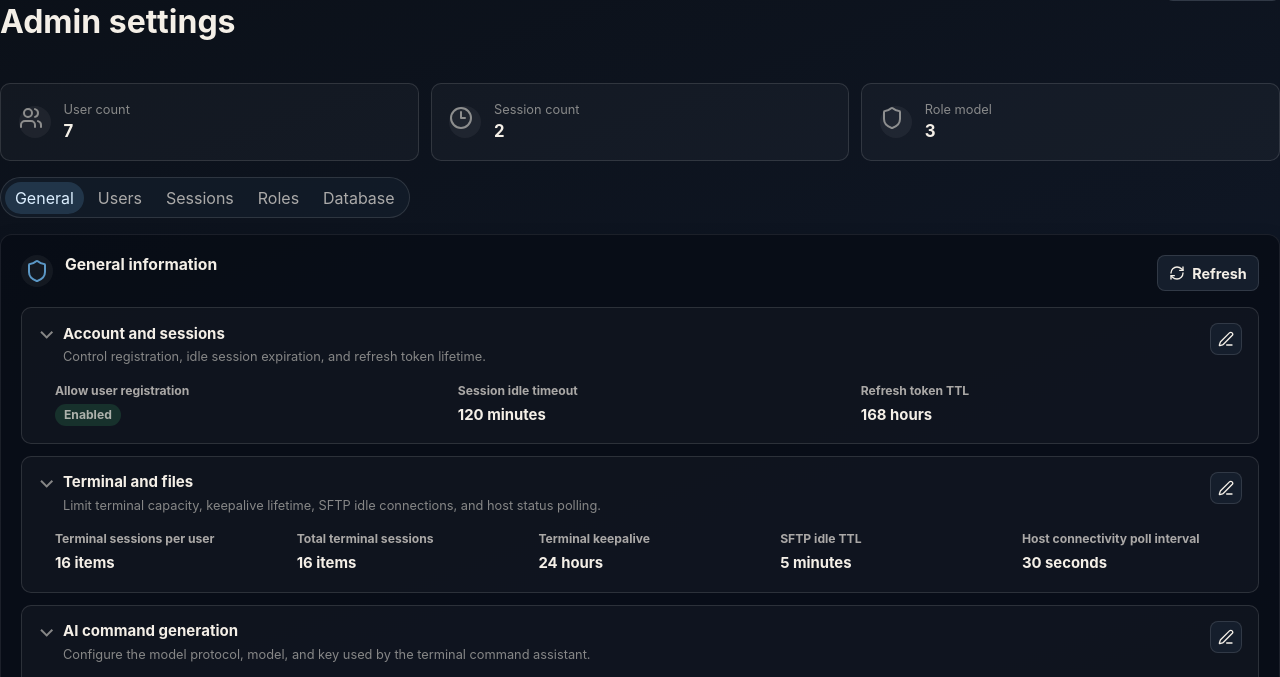
Test: AdminPage › cancels a general settings card draft without changing the summary
The width and height of the screenshot is (1280, 677).
Expected: the text "Terminal and files" is shown, x1=36 y1=470 x2=1244 y2=516
Click the button named "Edit Terminal and files": click(1226, 488) x1=1210 y1=472 x2=1242 y2=504
(page scrolled)
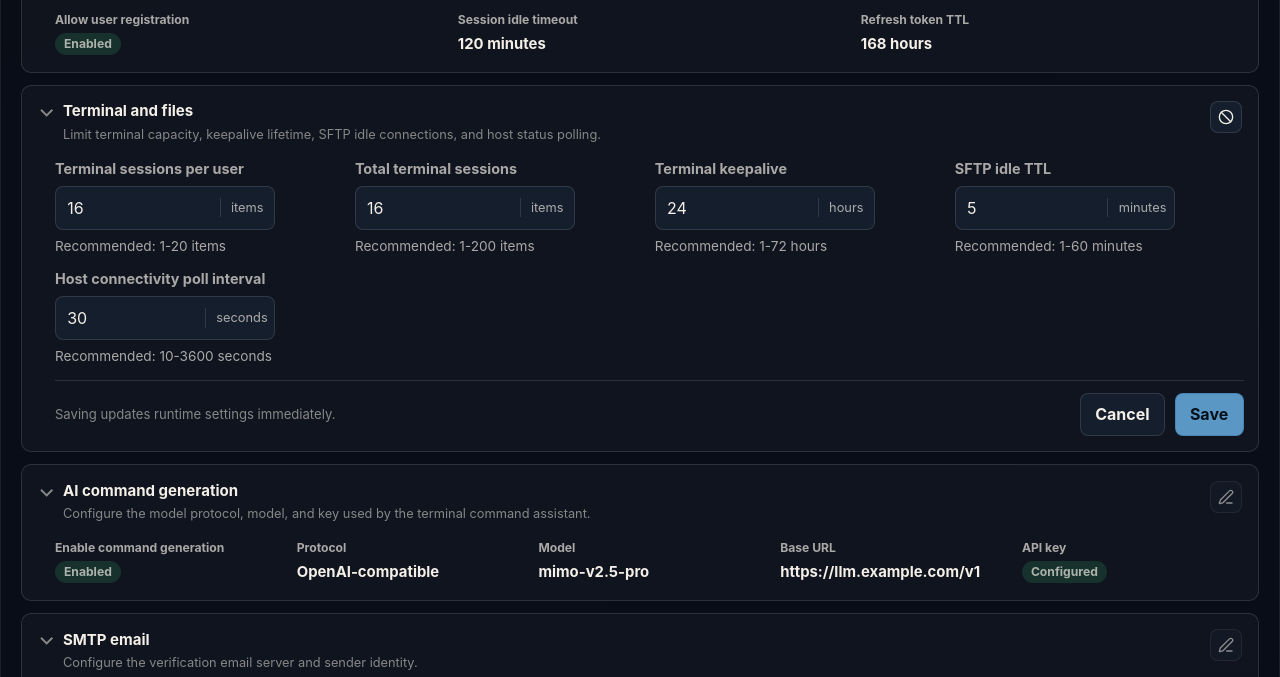
Expected: the text "Terminal and files" is shown, x1=36 y1=100 x2=1244 y2=145
Replace the text in the number field labelled "Host connectivity poll interval" with "45": (130, 318) x1=56 y1=297 x2=205 y2=339
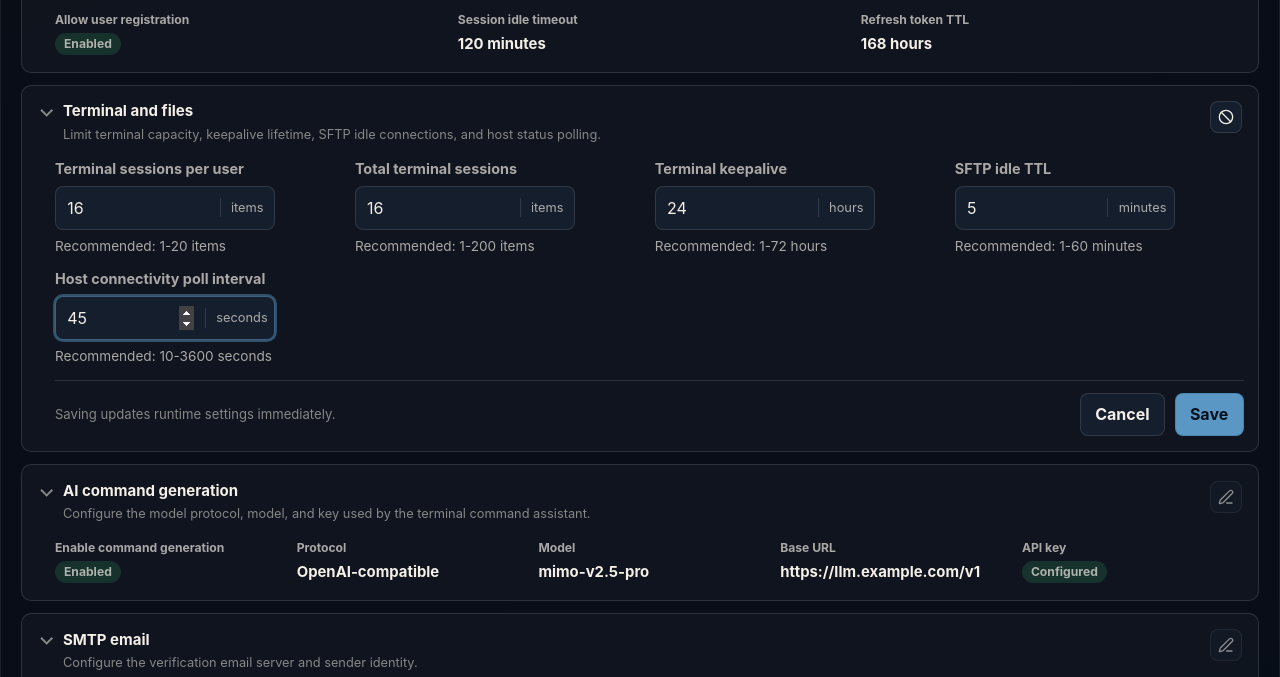
Click the button "Cancel": click(1122, 414) x1=1080 y1=393 x2=1165 y2=436
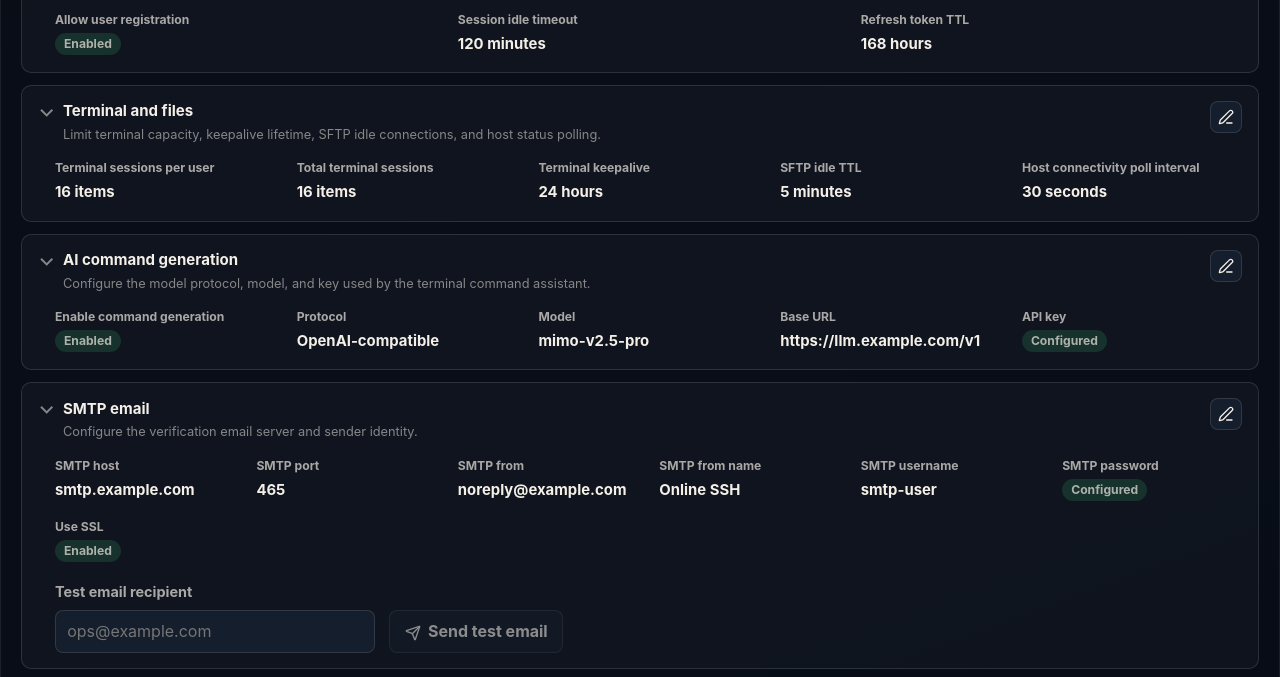
Expected: the text "Terminal and files" is shown, x1=36 y1=100 x2=1244 y2=145
Result: the text "30 seconds" is shown at x1=1022 y1=184 x2=1107 y2=202
